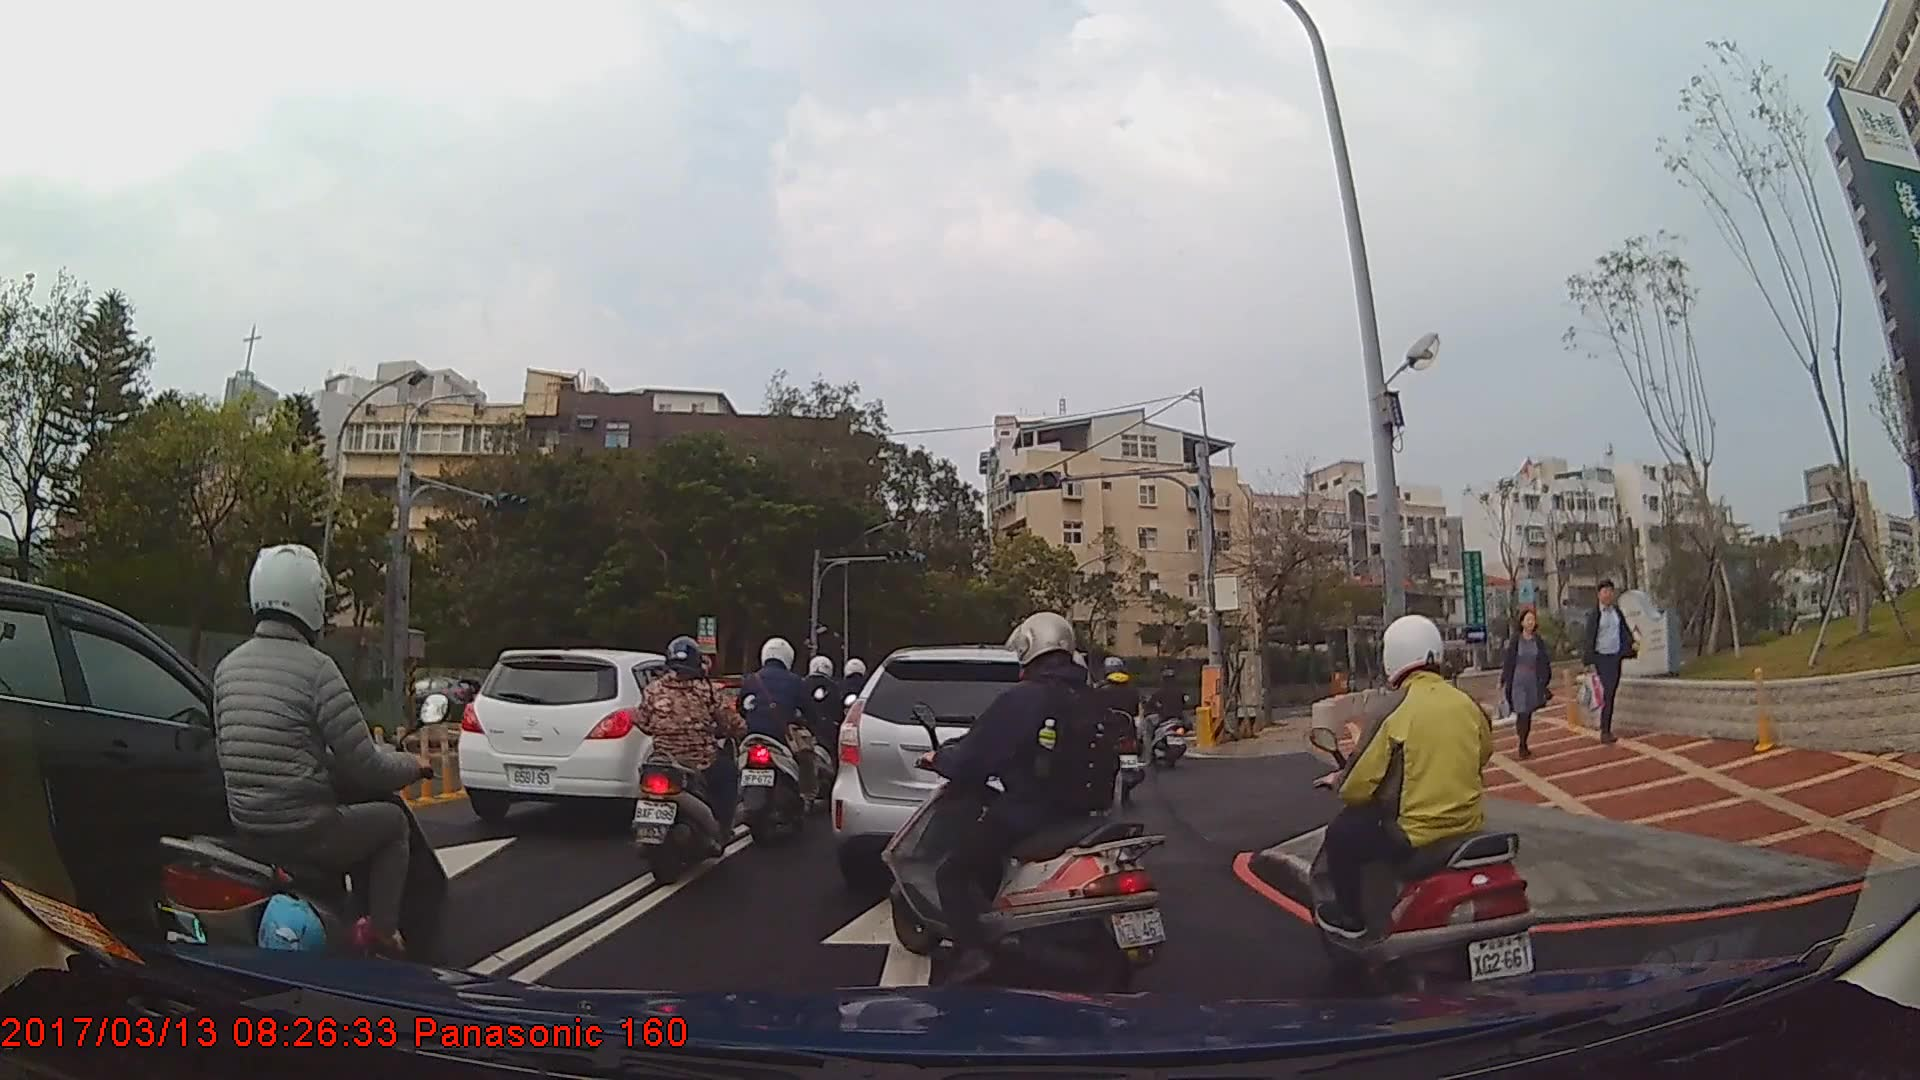pedestrian: (1490, 611, 1557, 772), (1581, 581, 1644, 744)
rider: (140, 542, 454, 1030), (882, 611, 1173, 999), (1306, 614, 1532, 1020), (630, 637, 747, 888), (730, 634, 830, 843), (1087, 655, 1146, 802), (800, 656, 855, 799), (1143, 673, 1193, 762)
vehicle: (0, 574, 377, 955), (831, 642, 1119, 894), (454, 647, 735, 825), (393, 674, 482, 722)
